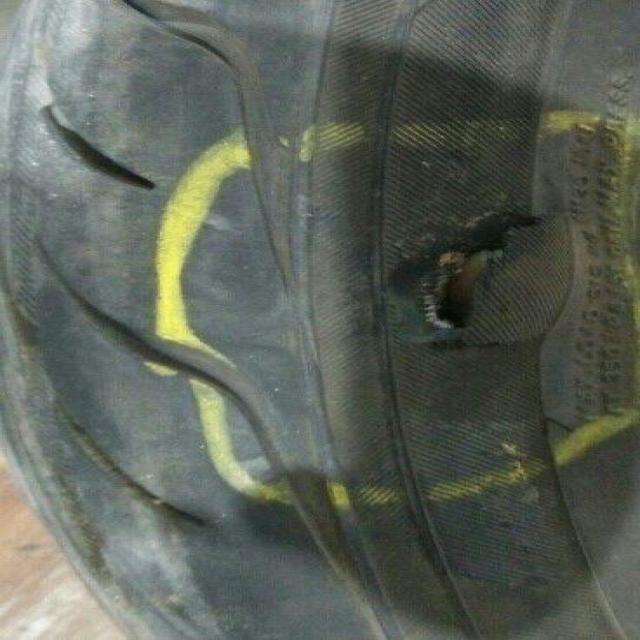Bulge: (515, 205, 632, 374)
